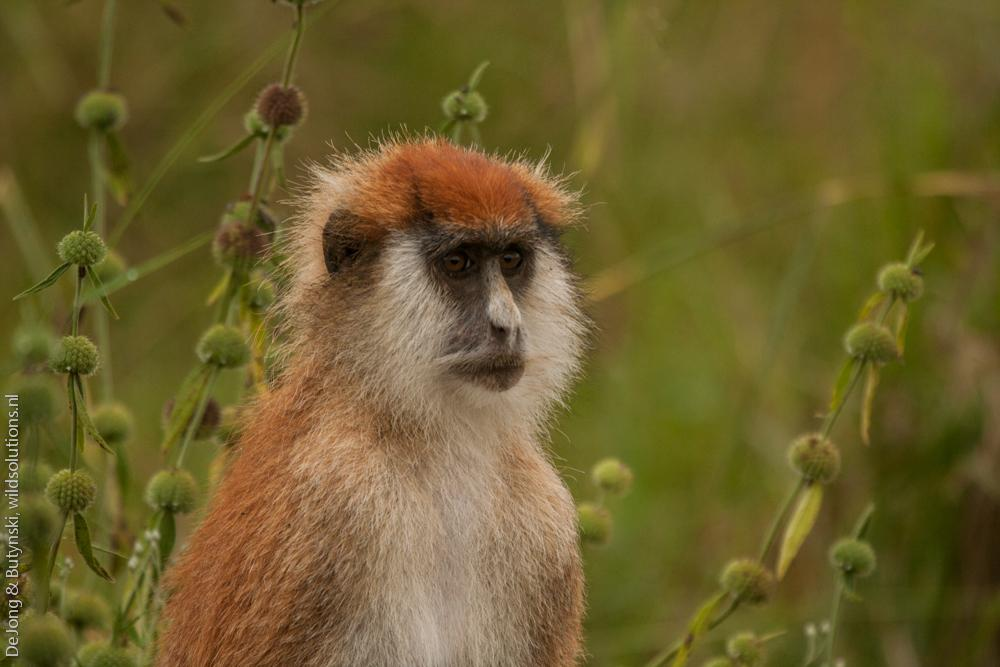monkey: (161, 137, 594, 667)
